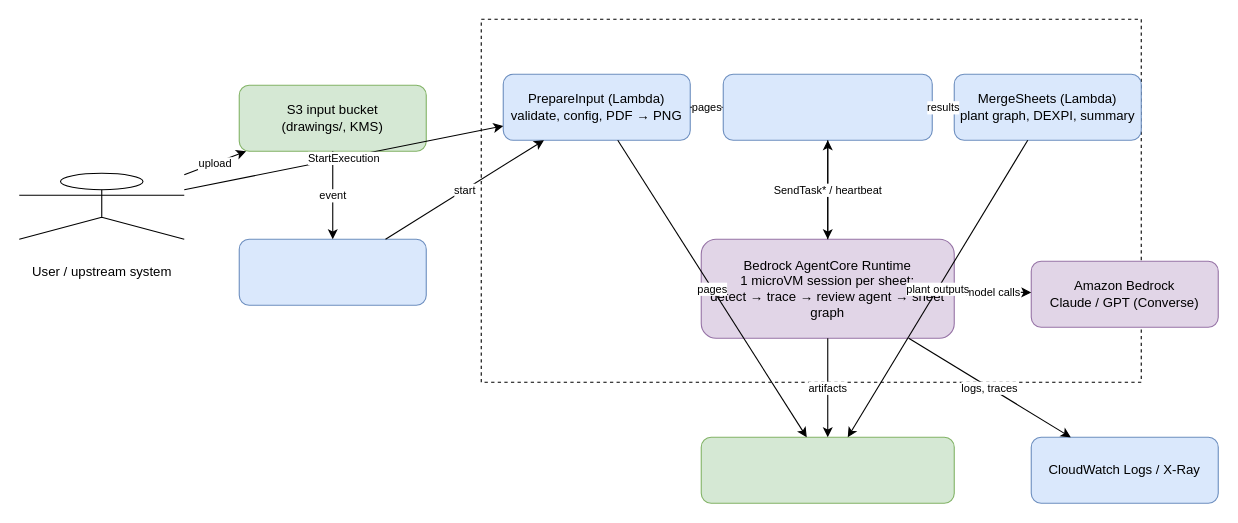
Image size: 1238x523. Some labels were removed from this diagram. Each missing label, with the box of its shape:
Amazon EventBridge Object Created rule: (238, 238, 426, 305)
AWS Step Functions (Standard): (480, 18, 1141, 382)
Map: DispatchSheet (Lambda) waitForTaskToken, per sheet: (722, 73, 932, 140)
S3 output bucket pages/, sheets/, plant.*, summary.json (KMS): (700, 436, 954, 503)
